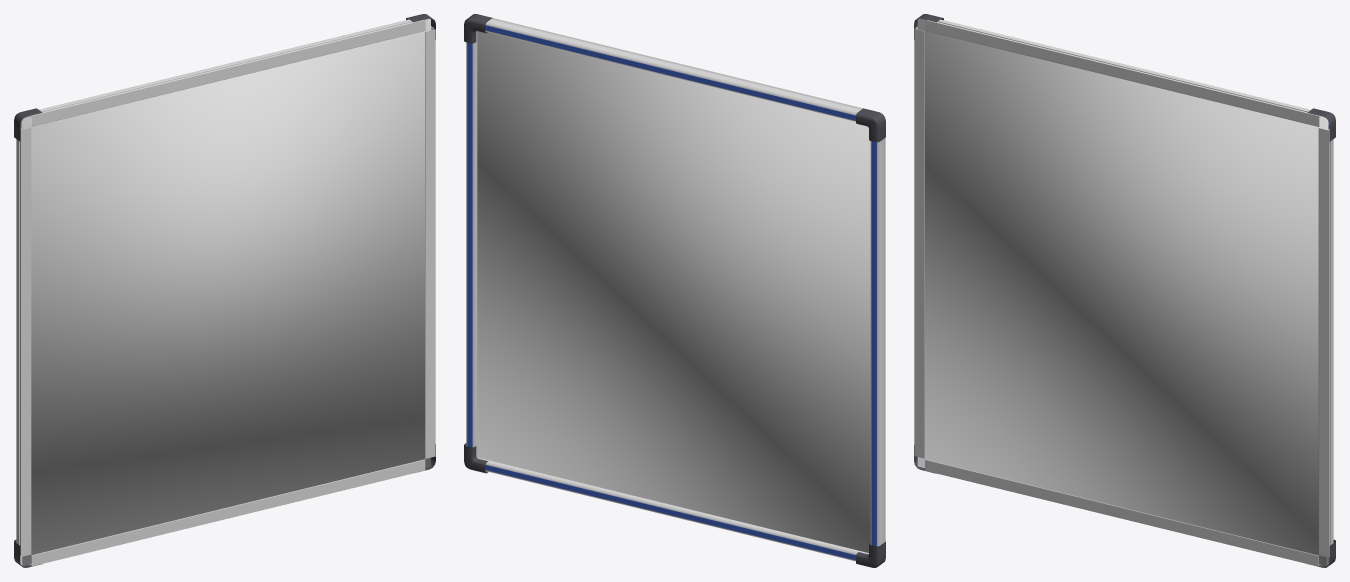
File: qbms.glb
3 views of the same model, side by side, from view 1: azimuth 30°, elevation 25°; view 2: azimuth 150°, elevation 25°; view 3: azimuth 330°, elevation 25° (orthographic).
Parts seen in each view (by area): view 1: Quadro Eco 001, Plane.003, Plane, Plane.002, Plane.001; view 2: Quadro Eco 001, Plane.003, Plane, Plane.002, Plane.001, Cubo.001, Cubo, Cubo.002, Cubo.005, cantoneira.001, cantoneira, cantoneira.002; view 3: Quadro Eco 001, Plane.002, Plane, Plane.003, Plane.001.
Boxes of the visible parts, x1,y1,x2,y2 form: Quadro Eco 001: [20, 18, 430, 565]; Plane.003: [16, 127, 31, 556]; Plane: [30, 19, 425, 126]; Plane.002: [425, 26, 435, 458]; Plane.001: [29, 459, 425, 566]; Quadro Eco 001: [477, 31, 870, 552]; Plane.003: [870, 138, 885, 546]; Plane: [485, 18, 862, 121]; Plane.002: [466, 31, 477, 456]; Plane.001: [477, 457, 868, 561]; Cubo.001: [467, 43, 472, 447]; Cubo: [485, 25, 855, 120]; Cubo.002: [485, 465, 855, 560]; Cubo.005: [872, 141, 876, 546]; cantoneira.001: [856, 108, 885, 142]; cantoneira: [464, 14, 492, 43]; cantoneira.002: [856, 541, 885, 567]; Quadro Eco 001: [917, 18, 1328, 565]; Plane.002: [1318, 128, 1333, 557]; Plane: [925, 19, 1320, 126]; Plane.003: [914, 26, 924, 458]; Plane.001: [925, 459, 1320, 566].
Size of the model in its own units: 0.8656 by 0.8982 by 0.0277.
